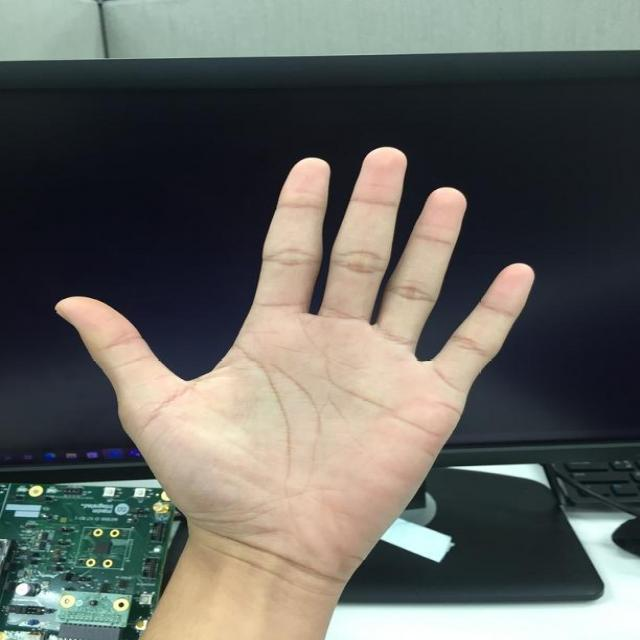hand: (52, 146, 534, 556)
